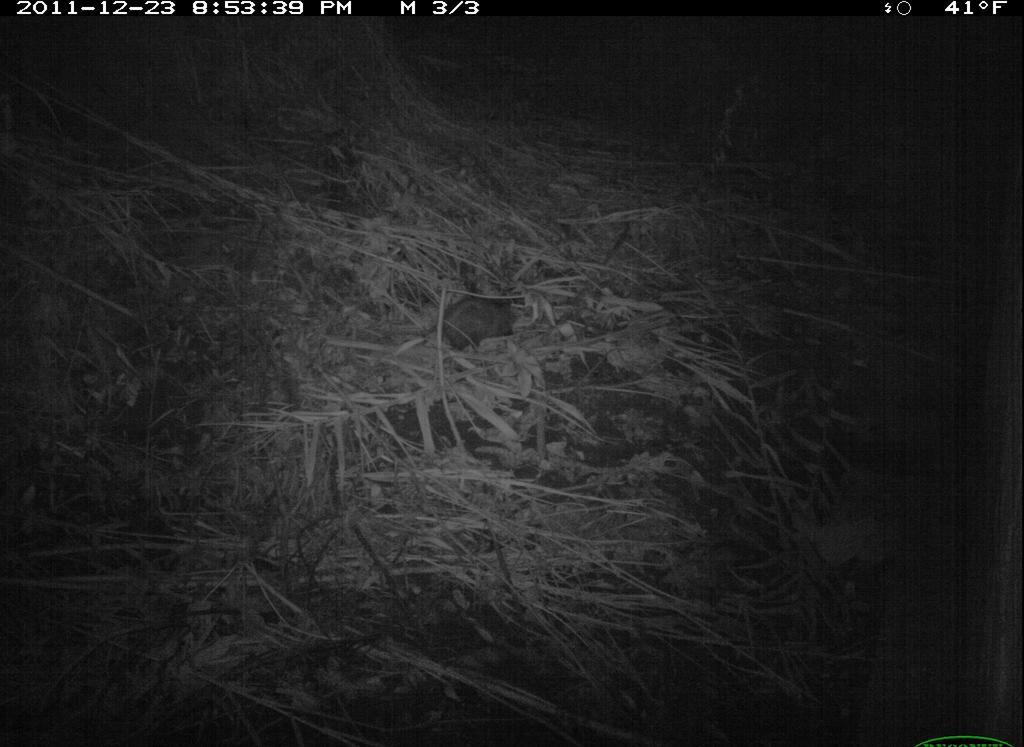opossum: (358, 287, 542, 359)
